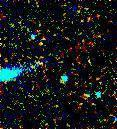star: (27, 29, 57, 59)
